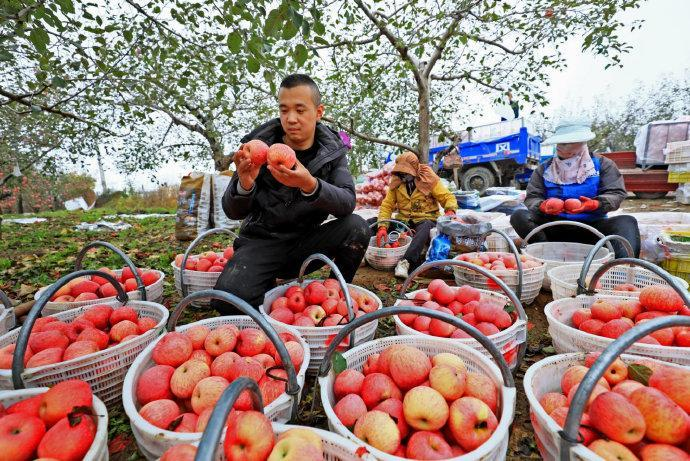apple: (590, 392, 644, 445), (222, 411, 277, 461), (448, 401, 497, 447), (1, 410, 46, 460), (402, 385, 448, 433), (353, 409, 401, 451), (387, 344, 430, 384), (268, 433, 324, 460), (150, 333, 192, 365), (172, 363, 209, 396), (191, 377, 229, 408), (204, 326, 234, 357), (237, 330, 265, 356), (267, 144, 294, 169), (243, 139, 270, 164)
